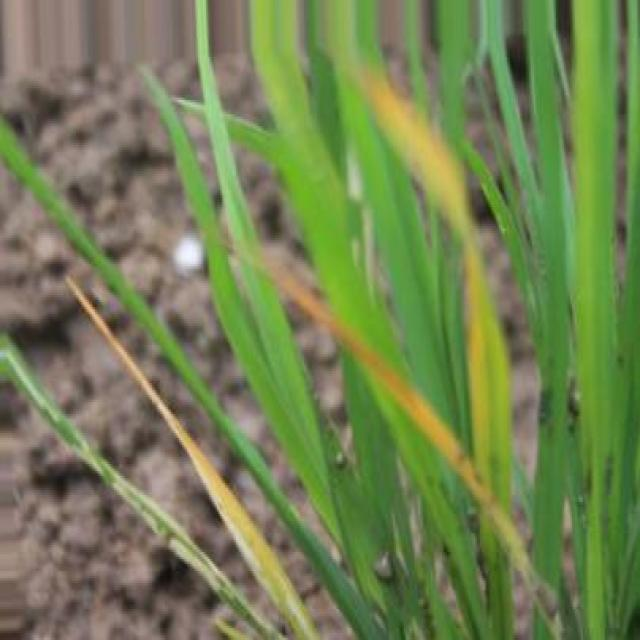Rice Tungro: (272, 268, 550, 615), (66, 279, 319, 639)
